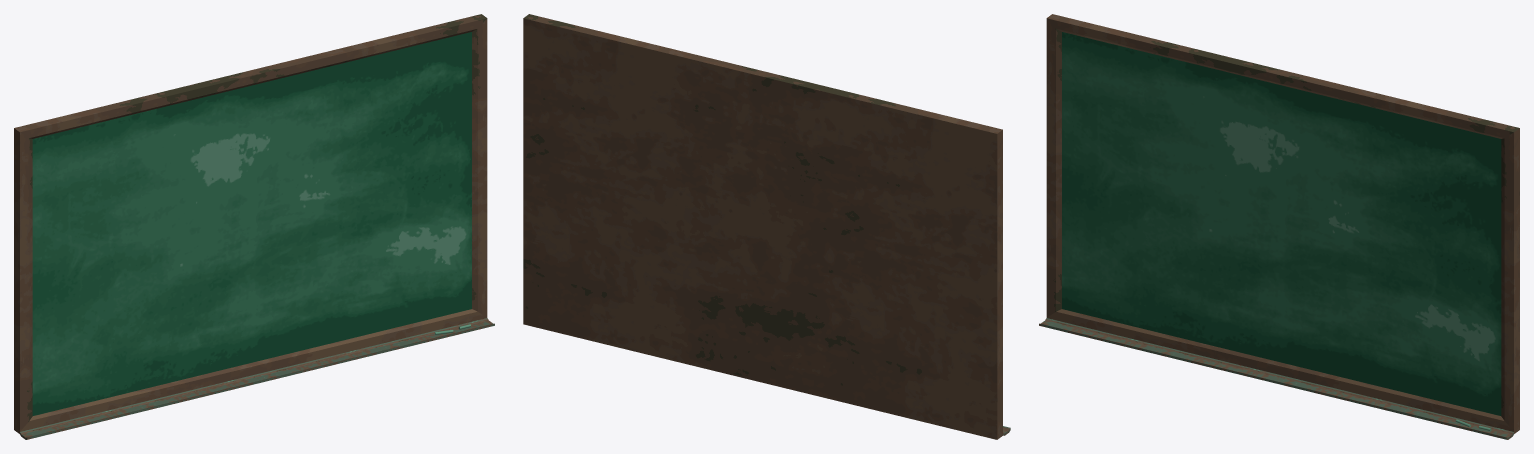
The picture shows the model from 3 angles, left to right: view 1: azimuth 30°, elevation 25°; view 2: azimuth 150°, elevation 25°; view 3: azimuth 330°, elevation 25°; orthographic projection.
Visible parts, largest first — view 1: Cube_0; view 2: Cube_0; view 3: Cube_0.
Part boxes in pixels (left/top/right/bottom): Cube_0: left=14, top=14, right=494, bottom=439; Cube_0: left=523, top=14, right=1010, bottom=439; Cube_0: left=1039, top=14, right=1519, bottom=439.
Bounding box in the file's own units: 5.52 × 3.42 × 0.273.
1 material, 1 textured.
